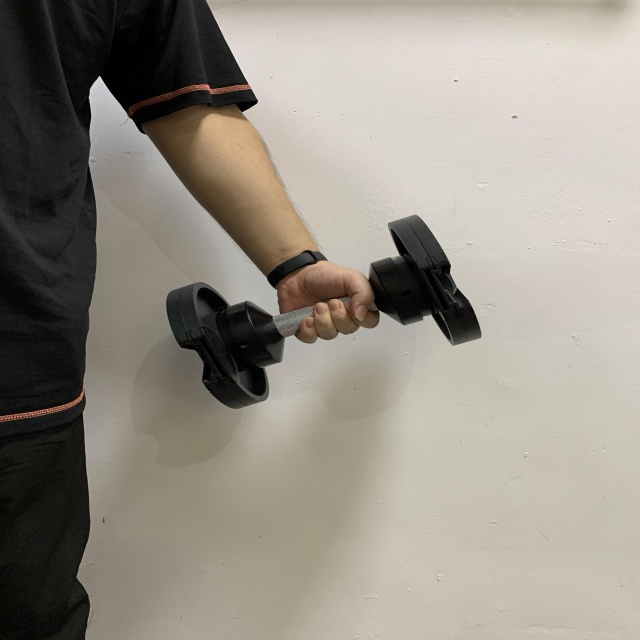03-6kg: (158, 213, 486, 412)
